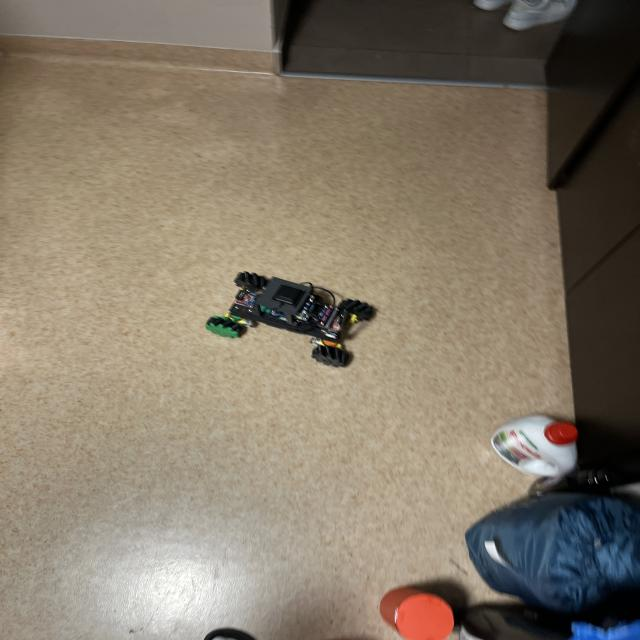robot: (206, 272, 375, 366)
